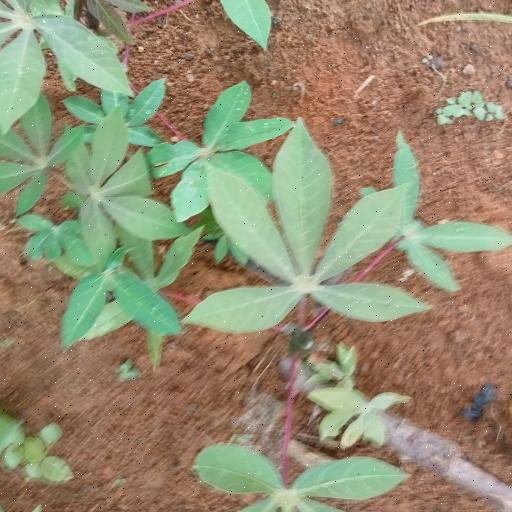Cassava_Mosaic: (208, 156, 416, 335)
